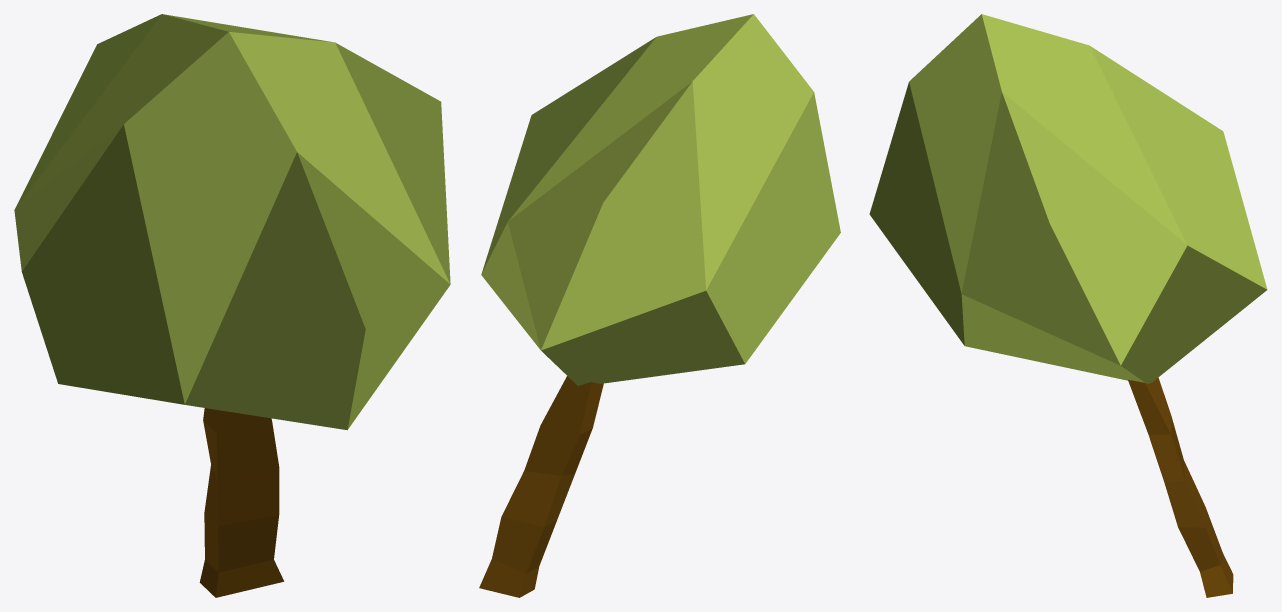
The model's file is shu.fbx.
3 renders of one model, left to right at view 1: azimuth 30°, elevation 25°; view 2: azimuth 150°, elevation 25°; view 3: azimuth 270°, elevation 25°, orthographic. The views are drawn at different scales.
Visible parts, largest first — view 1: shu; view 2: shu; view 3: shu.
Boxes of the visible parts, left/top/right/bottom form: shu: left=14, top=14, right=450, bottom=597; shu: left=479, top=14, right=840, bottom=597; shu: left=869, top=14, right=1267, bottom=597.
Bounding box in the file's own units: 24.08 × 37.19 × 26.31.
